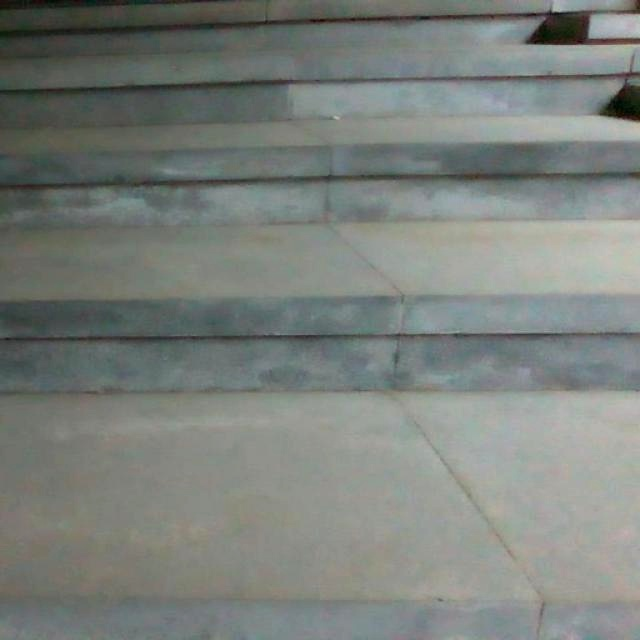stair: (0, 0, 640, 409)
